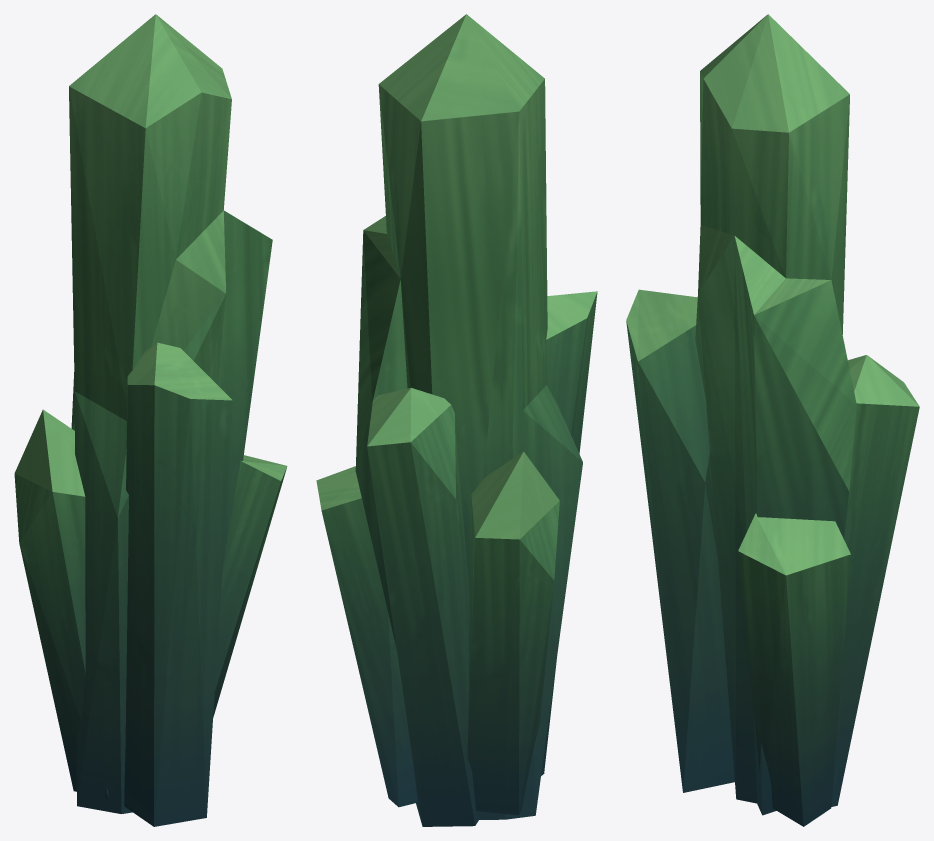
File: Crystal4.fbx
The picture shows the model from 3 angles, left to right: view 1: azimuth 30°, elevation 25°; view 2: azimuth 150°, elevation 25°; view 3: azimuth 270°, elevation 25°; orthographic projection.
Visible parts, largest first — view 1: polySurface47; view 2: polySurface47; view 3: polySurface47.
Boxes of the visible parts, <box> form: polySurface47: <box>14,14,287,826</box>; polySurface47: <box>316,14,597,826</box>; polySurface47: <box>626,14,919,826</box>.
Bounding box in the file's own units: 0.6082 × 1.81 × 0.612.
Materials: 1 (1 with a texture image).
